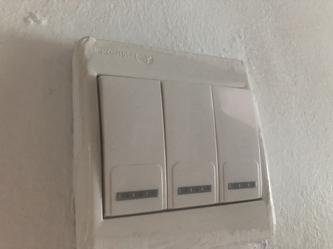switch: (95, 69, 168, 221), (158, 71, 223, 215), (213, 75, 267, 209)
